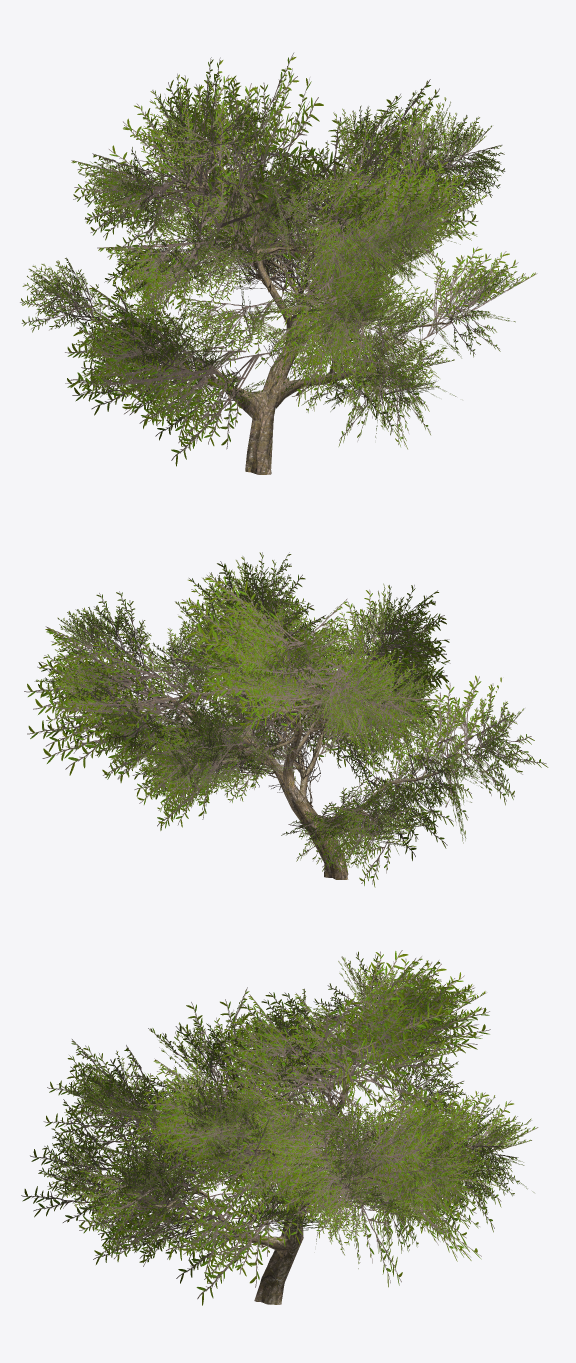
File: arbol_saman.glb
3 views of the same model, one above another, from view 1: azimuth 30°, elevation 25°; view 2: azimuth 150°, elevation 25°; view 3: azimuth 270°, elevation 25° (orthographic). The views are drawn at different scales.
Visible parts, largest first — view 1: lejos, cerca; view 2: lejos, cerca; view 3: lejos, cerca.
Part boxes in pixels (x1=…): lejos: x1=65, y1=52, x2=537, y2=474; cerca: x1=20, y1=88, x2=517, y2=474; lejos: x1=24, y1=552, x2=548, y2=887; cerca: x1=44, y1=568, x2=528, y2=879; lejos: x1=21, y1=950, x2=538, y2=1305; cerca: x1=38, y1=965, x2=531, y2=1304.
Size of the model in its own units: 22.33 by 16.28 by 20.98.
2 materials, 2 textured.
